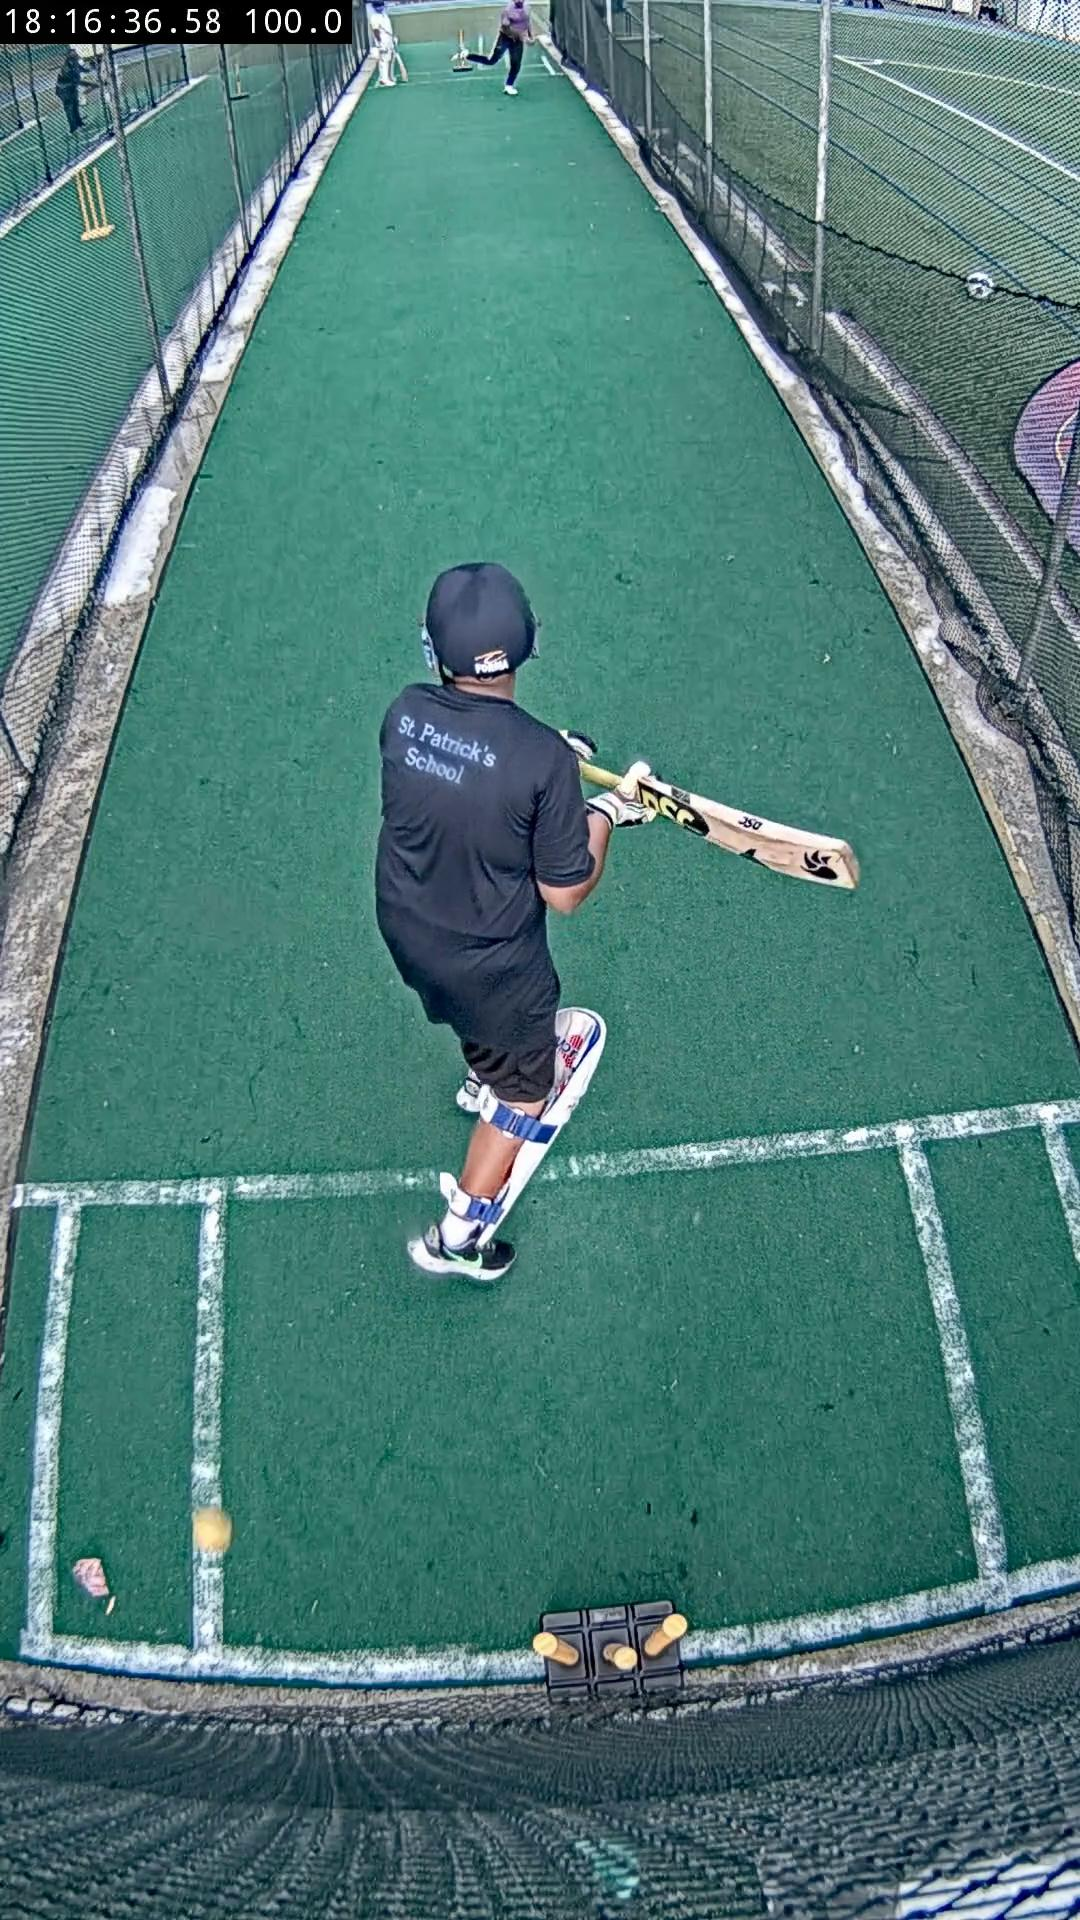ball: (191, 1507, 232, 1552)
bat: (641, 777, 858, 889), (582, 761, 618, 783)
gloves: (585, 761, 657, 825), (559, 728, 596, 761)
helmet: (423, 563, 537, 676)
pads: (476, 1009, 608, 1245)
stumps: (533, 1601, 686, 1701)
